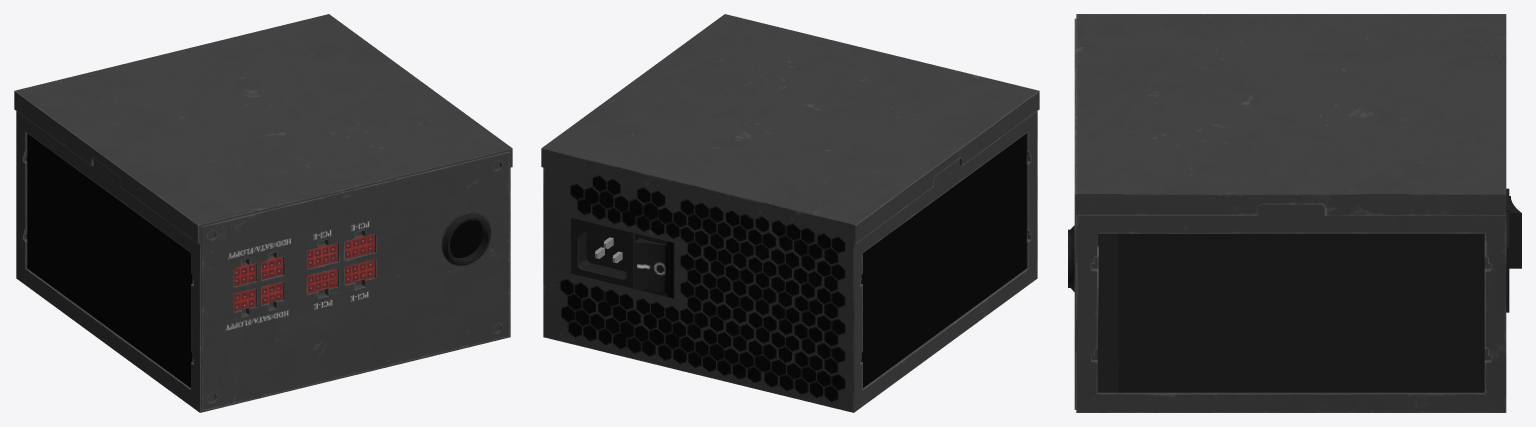
The model's file is psu-corsair-rm850x.glb.
The picture shows the model from 3 angles, left to right: view 1: azimuth 30°, elevation 25°; view 2: azimuth 150°, elevation 25°; view 3: azimuth 270°, elevation 25°; orthographic projection. The views are drawn at different scales.
Parts seen in each view (by area): view 1: body; view 2: body; view 3: body.
Boxes of the visible parts, left/top/right/bottom form: body: left=14, top=14, right=512, bottom=412; body: left=541, top=14, right=1039, bottom=412; body: left=1068, top=14, right=1521, bottom=412.
Bounding box in the file's own units: 0.15 × 0.086 × 0.16.
Materials: 1 (1 with a texture image).
